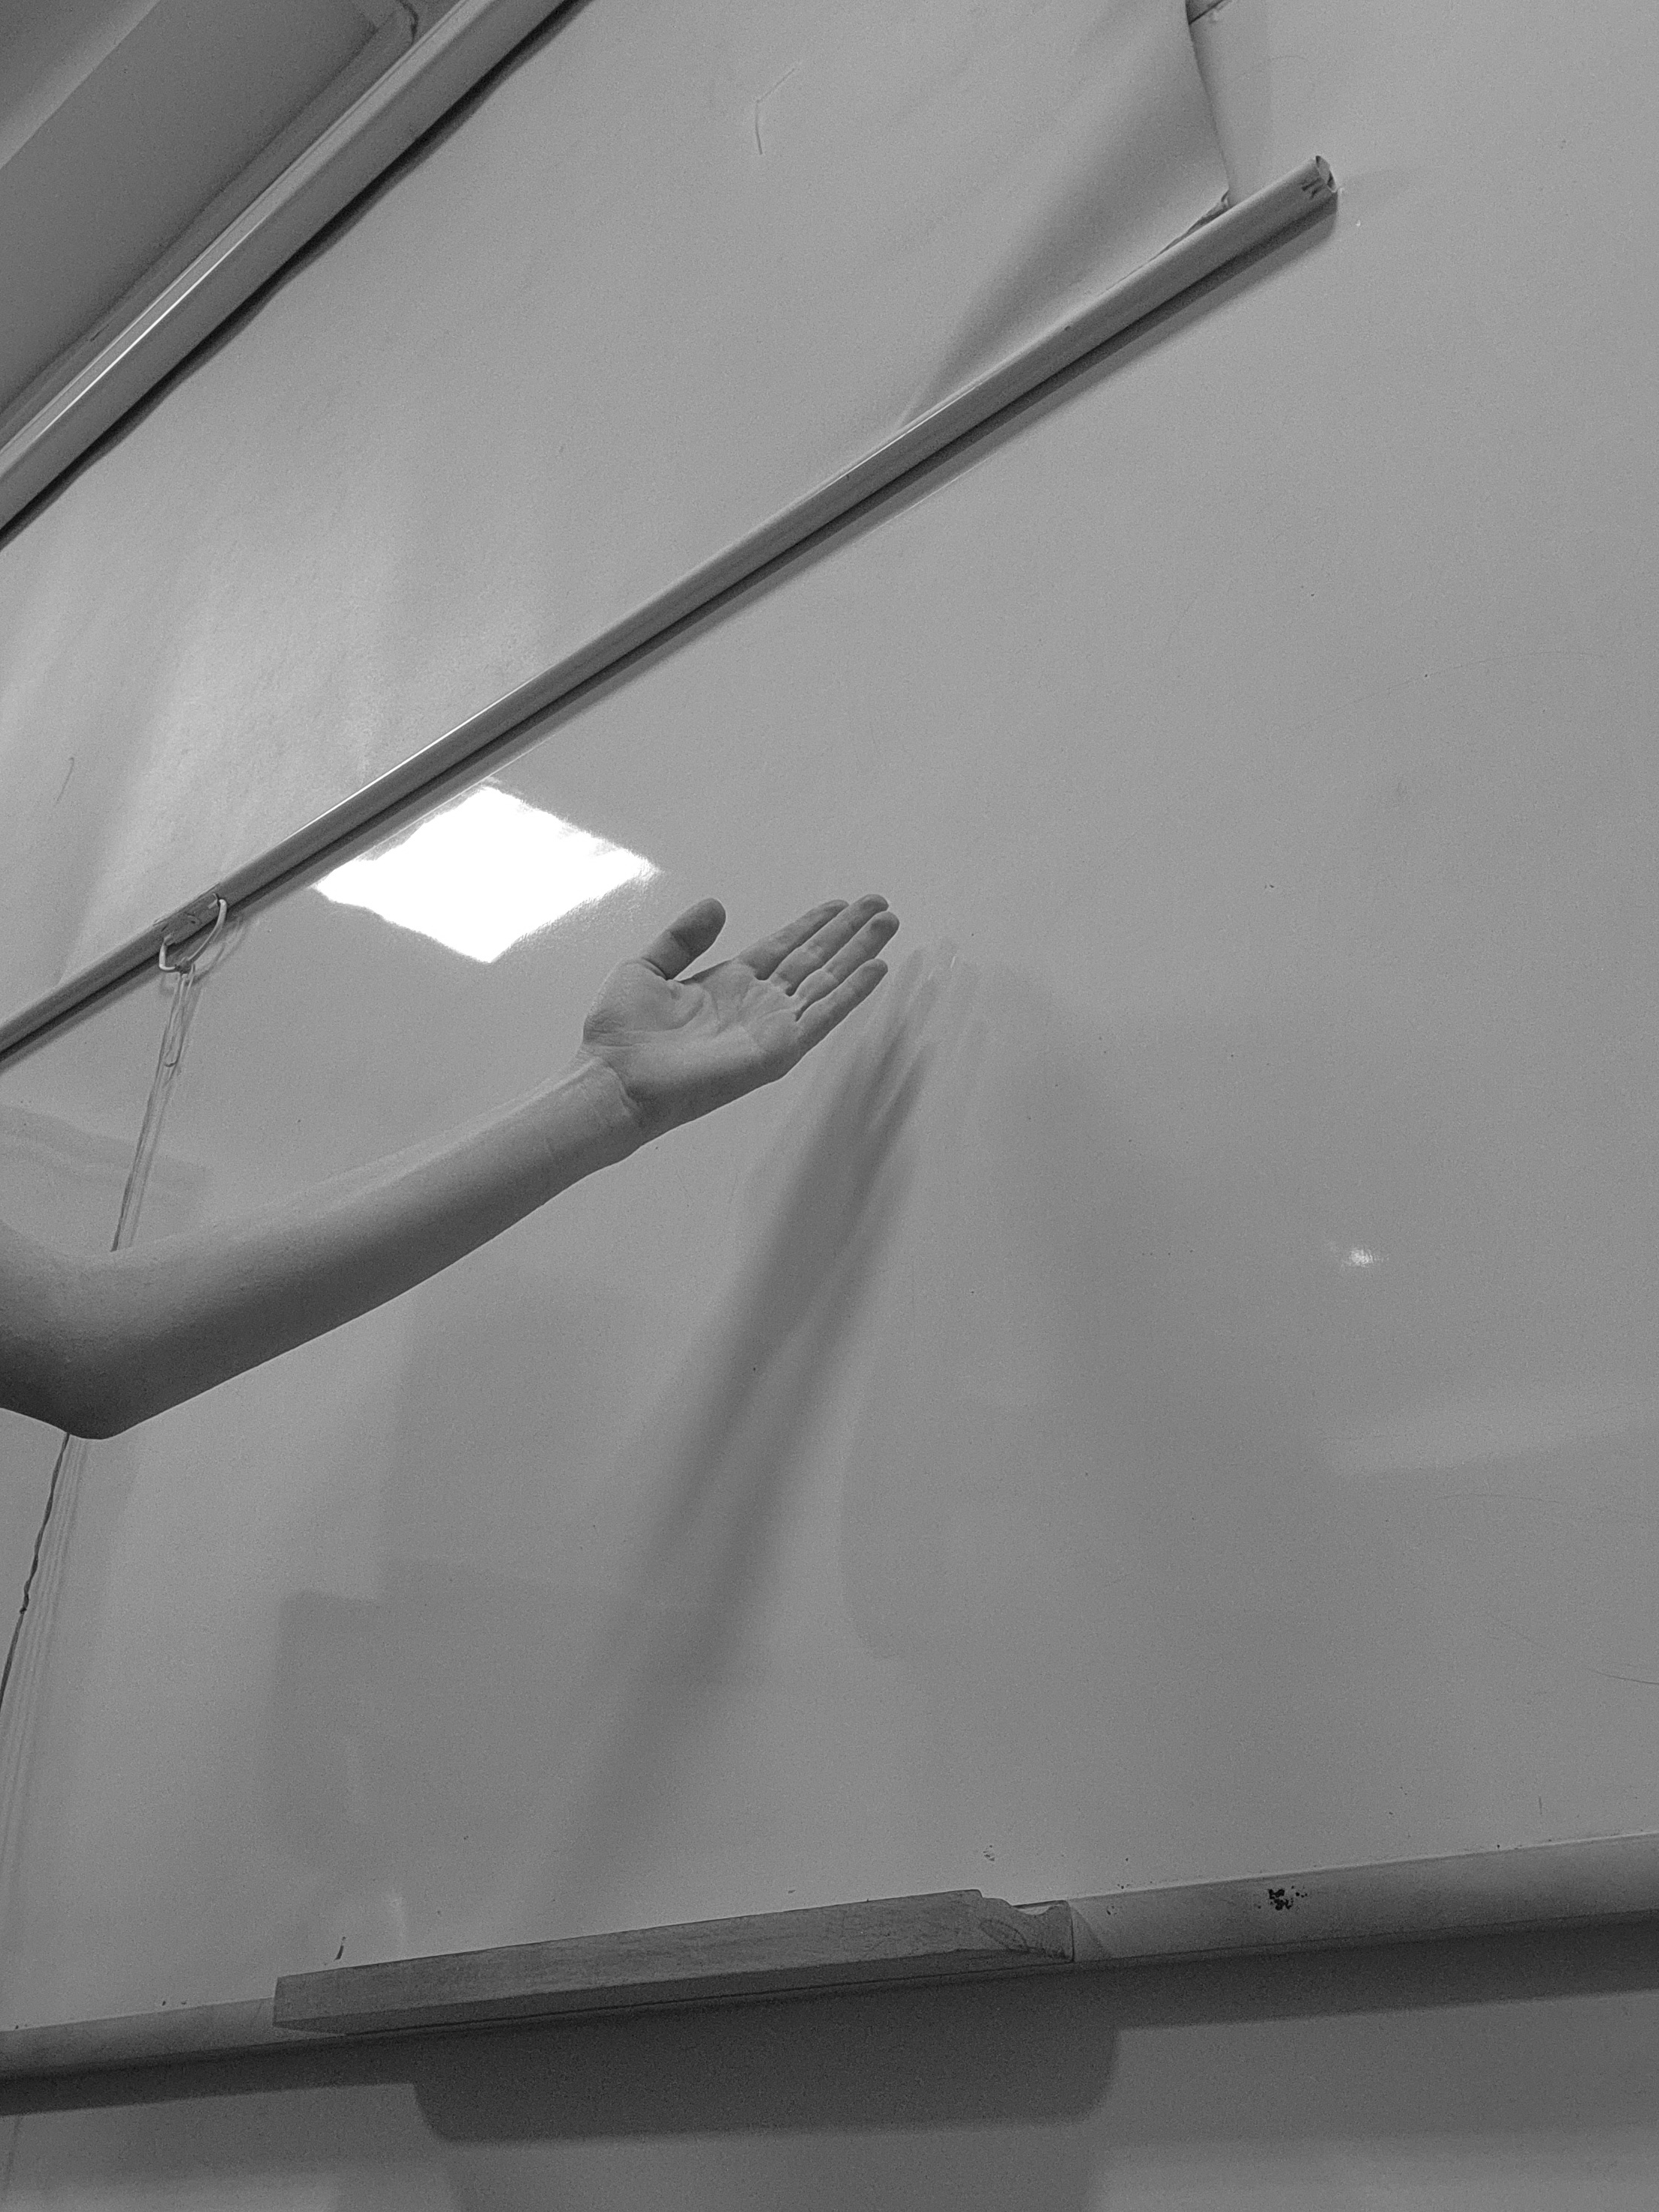pointing_gesture: (565, 894, 899, 1123)
